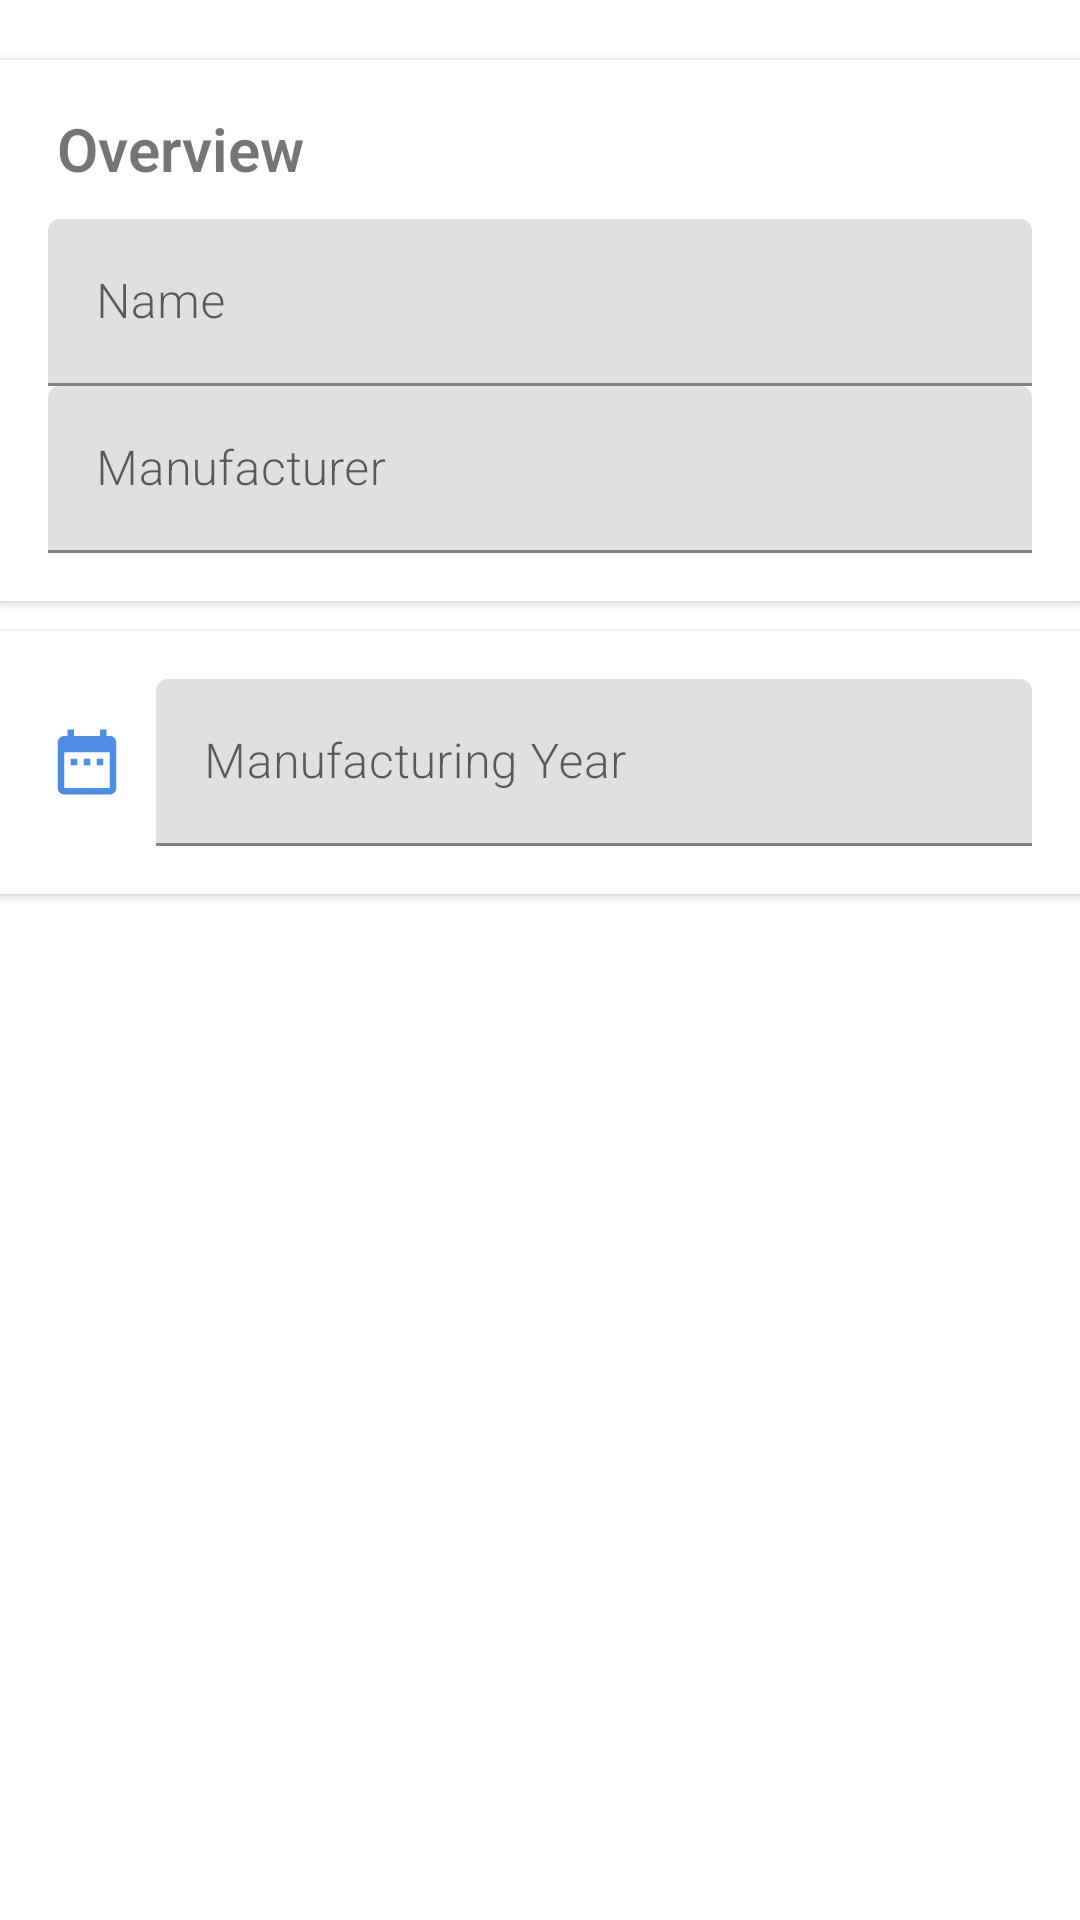

Point at icon controls on the screen. Image size 1080px x 1920px, points as point (x, y).
date range: point (87, 762)
